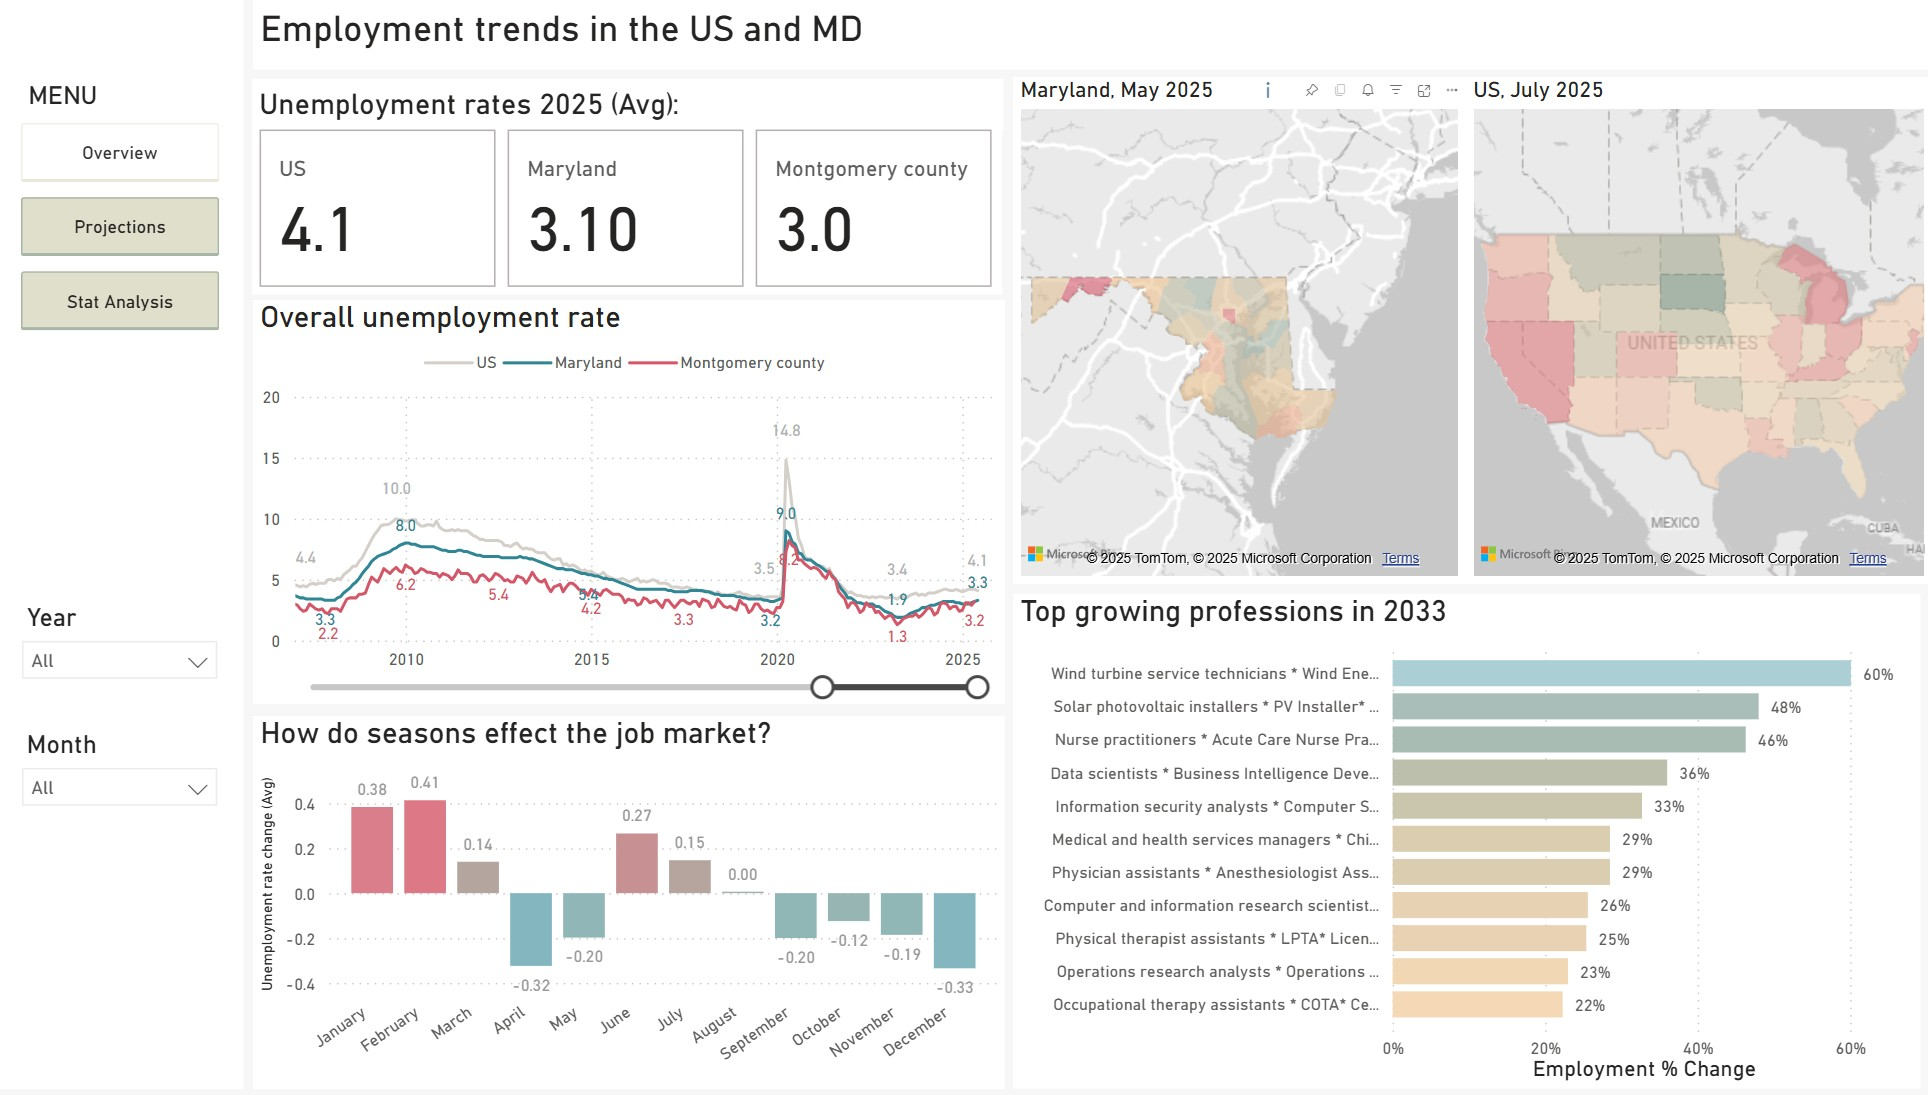

The dashboard page shown, as its layout file describes it:
{"tool":"powerbi","page":{"name":"Overview","canvas":[1280,720],"ordinal":0},"visuals":[{"type":"group","id":"g1","title":"SideBar","box":[0,0,163,720],"z":0},{"type":"shape","box":[0,0,163,720],"z":0,"group":"g1"},{"type":"filledMap","title":"Maryland, May 2025","fields":{"Category":["MD_Counties_202505_Unemployment_Map.Location"]},"box":[671.4,51,298.6,335],"z":0,"group":"g3"},{"type":"filledMap","title":"US, July 2025","fields":{"Category":["US_States_202506_Unemployment_Map.State"]},"box":[971.4,51,308,335],"z":0,"group":"g4"},{"type":"textbox","title":"Title","box":[169.2,0,1110.8,46.4],"z":1000},{"type":"textbox","title":"KPI_Title","box":[168,52,496.7,34.3],"z":1000,"group":"g2"},{"type":"slicer","title":"Slicer Year","fields":{"Values":["DateTable.Year"]},"box":[6.5,393,148.9,79.2],"z":1000,"group":"g1"},{"type":"cardVisual","title":"US_rate_KPI","fields":{"Data":["Measure Table.US_rate","Measure Table.MD_rate_Avg","Measure Table.MC_unempl_rate_Avg"]},"box":[168.4,80.2,495.7,114.3],"z":1500,"group":"g2"},{"type":"slicer","title":"Slicer Months","fields":{"Values":["DateTable.Month Name"]},"box":[6.5,476.5,148.9,76.3],"z":2000,"group":"g1"},{"type":"pageNavigator","box":[15.7,81.4,131.4,137.1],"z":2250,"group":"g1"},{"type":"textbox","title":"Menu title","box":[16,47.9,140.8,30.5],"z":2500,"group":"g1"},{"type":"clusteredBarChart","title":"Top growing professions in 2033","fields":{"Category":["Employment Projections_Industries.Occupation Title"],"Y":["Sum(Employment Projections_Industries.Employment Percent Change, 2023-2033)"]},"box":[672,393,600,327],"z":6000},{"type":"columnChart","title":"How do seasons effect the job market?","fields":{"Category":["DateTable.Month Name"],"Y":["Avg(MD_empl_1976_2025.unemploy_rate_diff)"]},"box":[169.2,473.4,497.1,246.5],"z":7000},{"type":"group","id":"g2","title":"KPIs","box":[168,52,496.7,142.5],"z":10000},{"type":"group","id":"g3","title":"MD_heat_map","box":[671.4,51,298.6,335],"z":11000},{"type":"group","id":"g4","title":"US_heat_map","box":[971.4,51,308.1,334],"z":12000},{"type":"lineChart","title":"Overall unemployment rate","fields":{"Category":["DateTable.Date"],"Y":["Sum(US_UR_monthly.Rate)","Sum(MD_empl_seasnl_adj_1976_2025.unempl rate)","Sum(MC_UR_monthly.Rate)"]},"box":[169.2,198,497.1,267.1],"z":13000}]}

Visuals, with their boxes in screenshot pixels (x1, y1, x2, y2), scaled from the page's 1280x720 canvas onto the 1928x1095 screenshot:
"SideBar" group: [0,0,246,1094]
shape: [0,0,246,1094]
"Maryland, May 2025" filledMap: [1011,78,1461,587]
"US, July 2025" filledMap: [1463,78,1927,587]
"Title" textbox: [255,0,1927,71]
"KPI_Title" textbox: [253,79,1001,131]
"Slicer Year" slicer: [10,598,234,718]
"US_rate_KPI" cardVisual: [254,122,1000,296]
"Slicer Months" slicer: [10,725,234,841]
pageNavigator: [24,124,222,332]
"Menu title" textbox: [24,73,236,119]
"Top growing professions in 2033" clusteredBarChart: [1012,598,1916,1094]
"How do seasons effect the job market?" columnChart: [255,720,1004,1094]
"KPIs" group: [253,79,1001,296]
"MD_heat_map" group: [1011,78,1461,587]
"US_heat_map" group: [1463,78,1927,586]
"Overall unemployment rate" lineChart: [255,301,1004,707]
